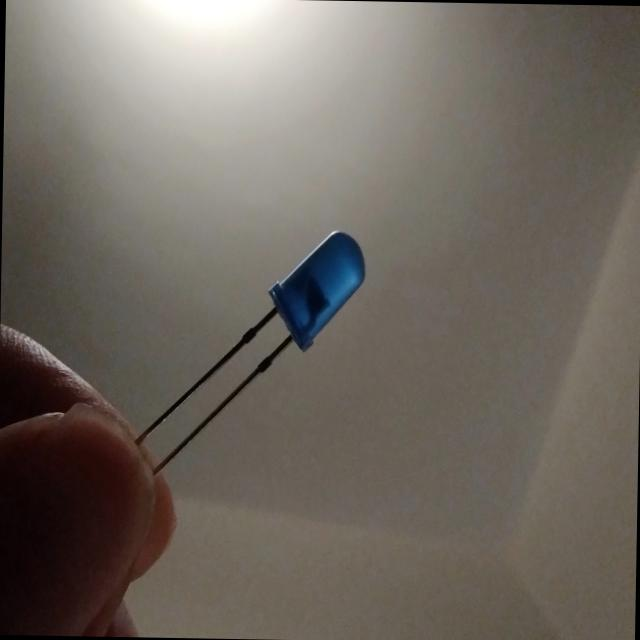blue_led: (265, 226, 367, 354)
